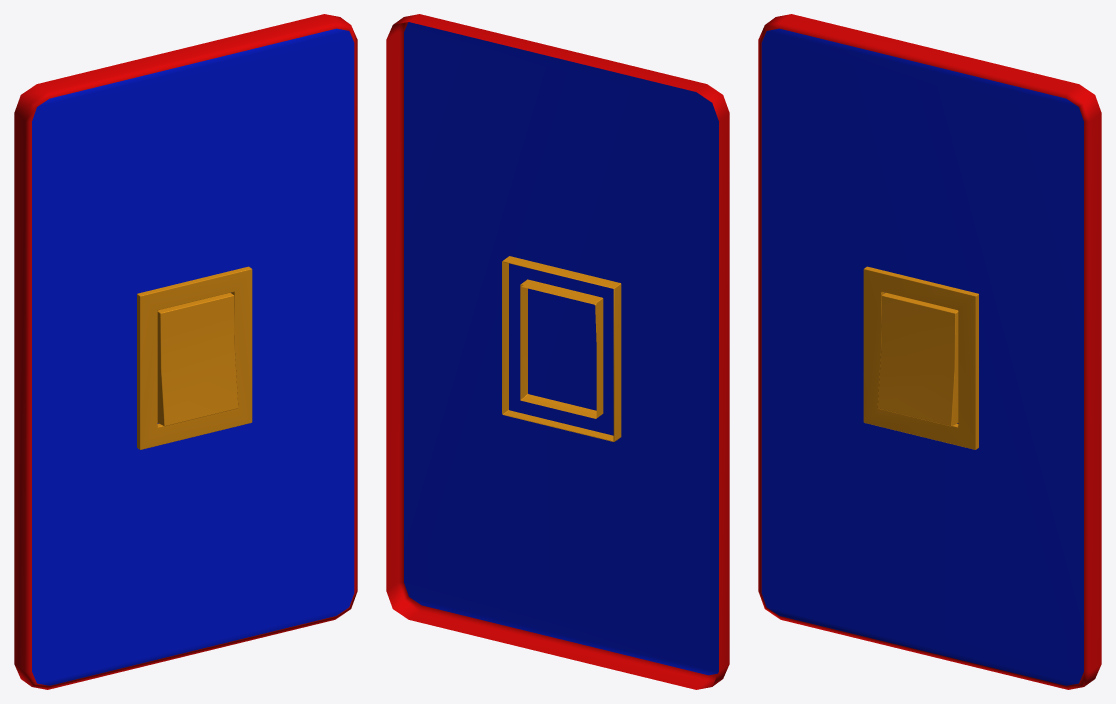
Rendered from light_switch.FBX.
3 renders of one model, left to right at view 1: azimuth 30°, elevation 25°; view 2: azimuth 150°, elevation 25°; view 3: azimuth 330°, elevation 25°, orthographic.
Visible parts, largest first — view 1: Object001; view 2: Object001; view 3: Object001.
Boxes of the visible parts, x1,y1,x2,y2 form: Object001: [14, 14, 357, 689]; Object001: [386, 14, 729, 689]; Object001: [758, 14, 1101, 689].
Size of the model in its own units: 0.0697 by 0.00765 by 0.1197.
